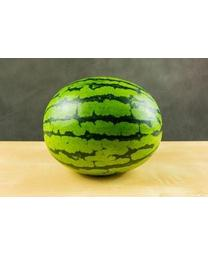watermelon: (41, 76, 163, 177)
